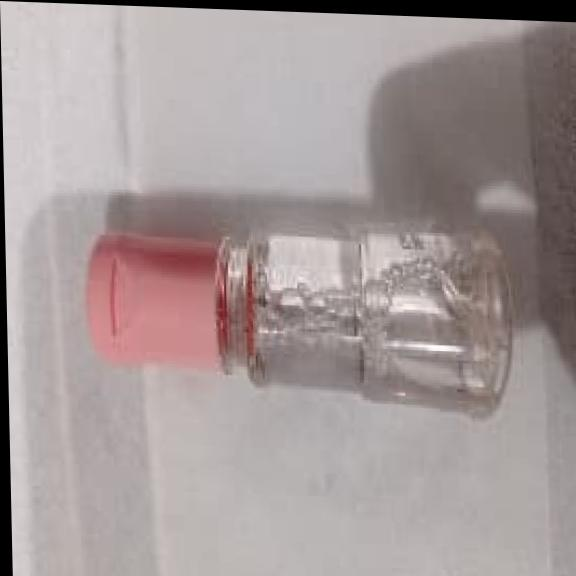Plastik: (89, 230, 507, 412)
